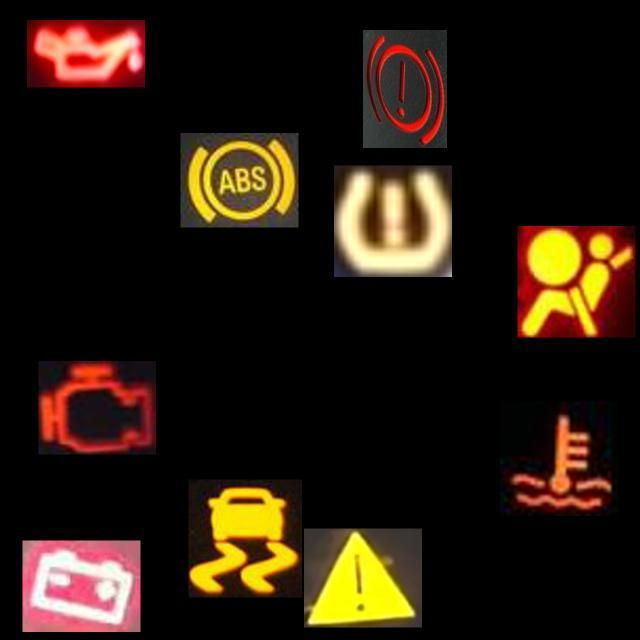Central Warning lamp: (304, 528, 422, 628)
Engine cooling system: (500, 402, 618, 516)
